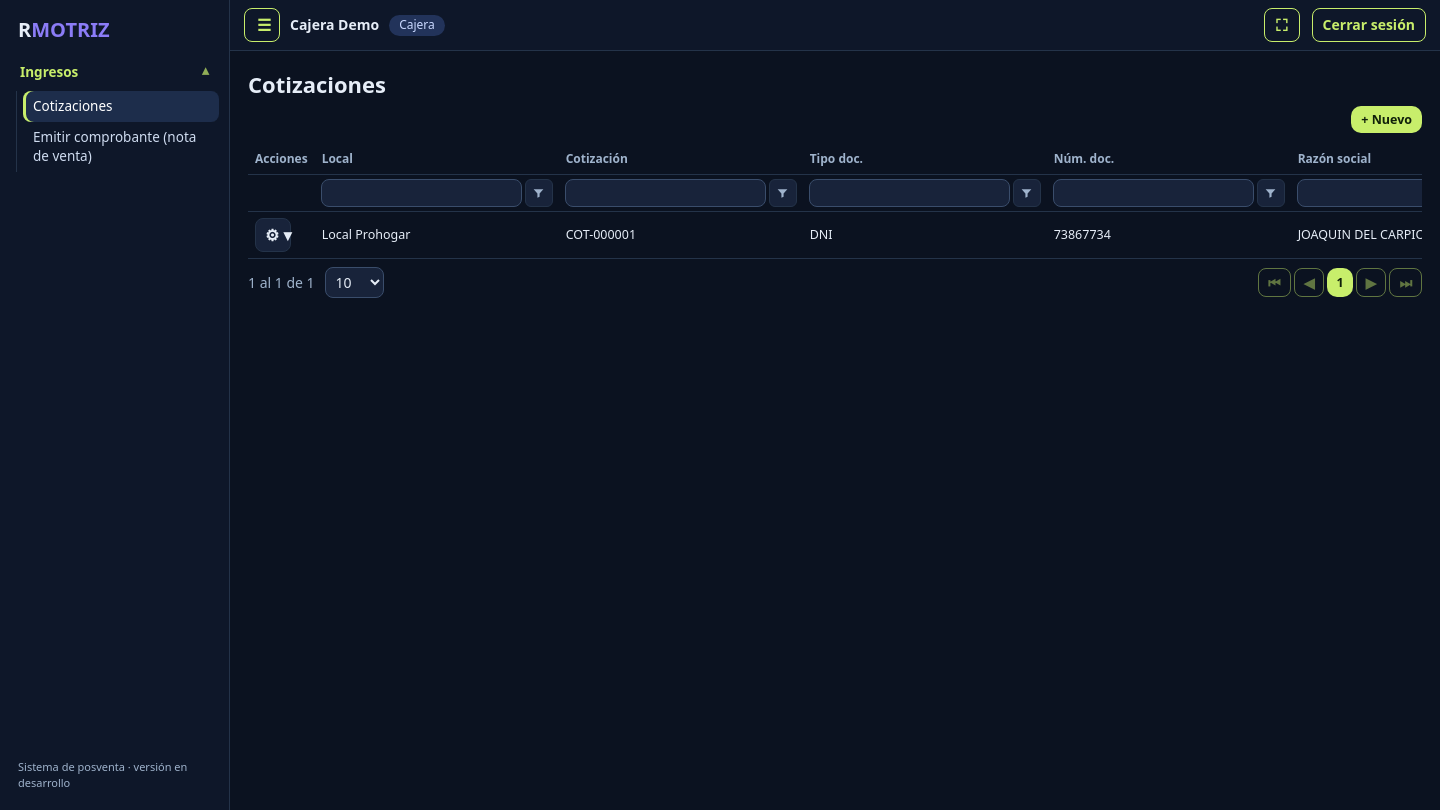
Scenario: Cotizaciones: un servicio con ficha muestra un ojo que despliega, justo bajo la línea, lo que incluye con sus tiempos y sin precios
Later steps or results of the test are not shown.
Click the button named "Acciones" at coordinates (273, 235), box [255,218,291,252]
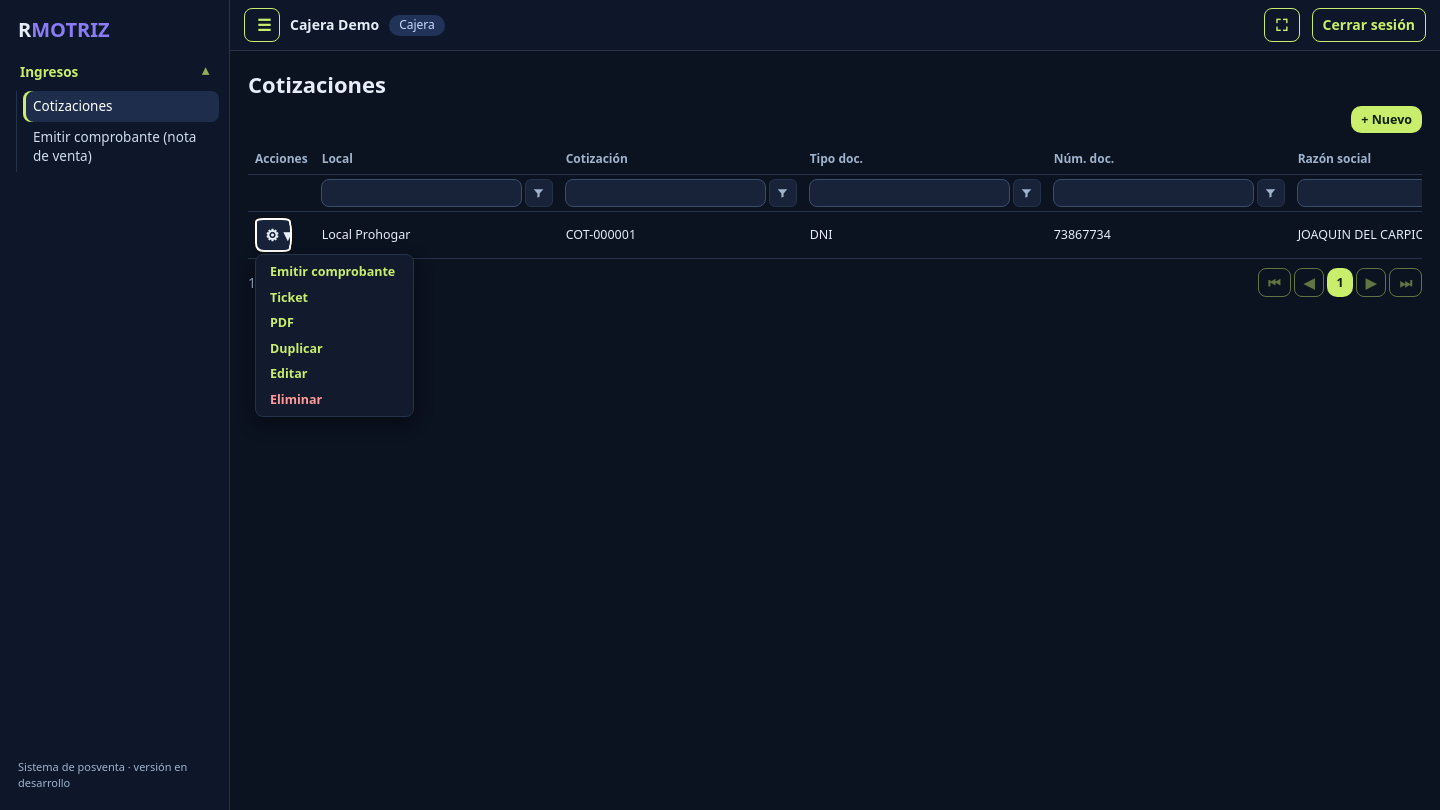
Click the button "Duplicar" at coordinates (333, 348), box [260,336,405,361]
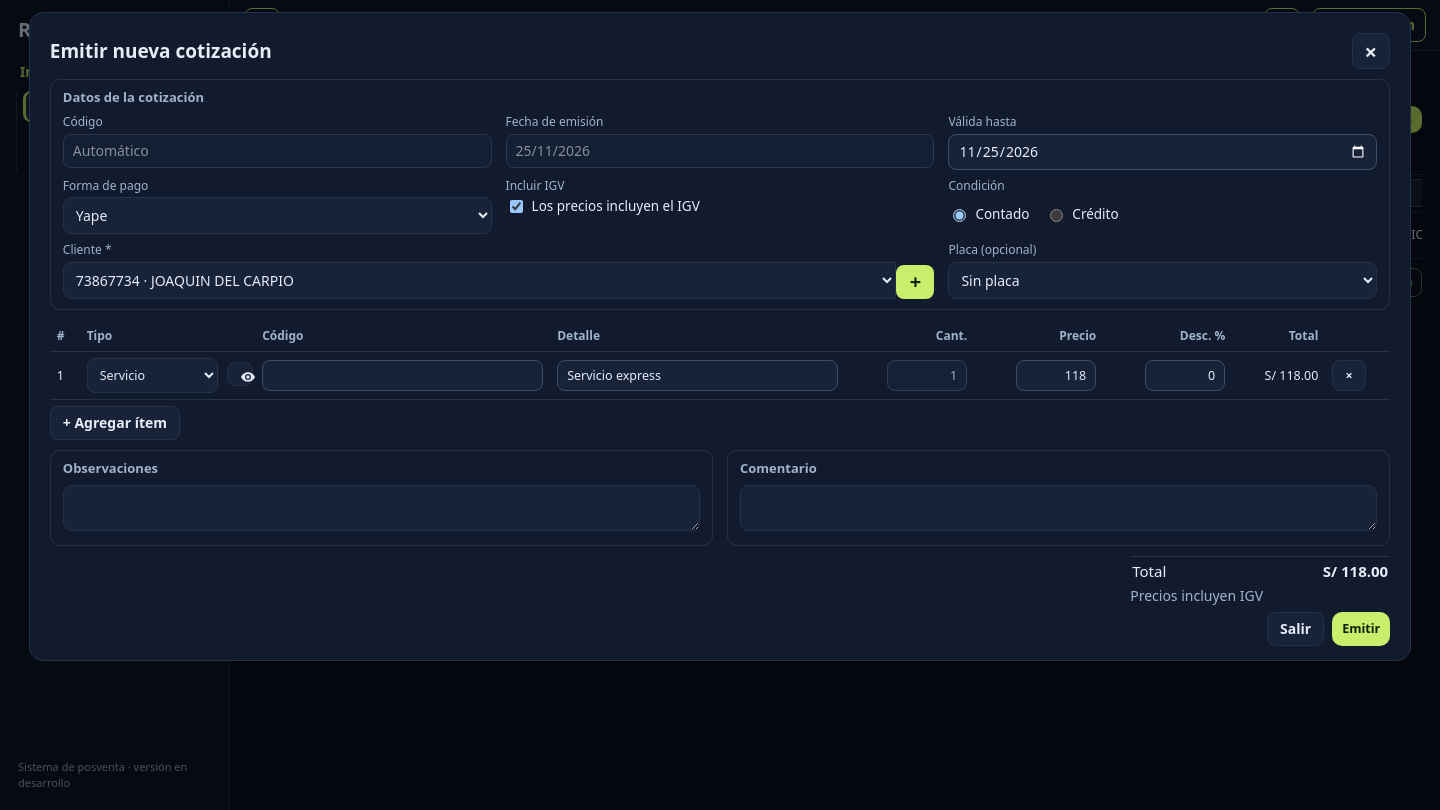
Click the button named "Ver ficha de Servicio express" at coordinates (240, 374), box [227,362,253,386]
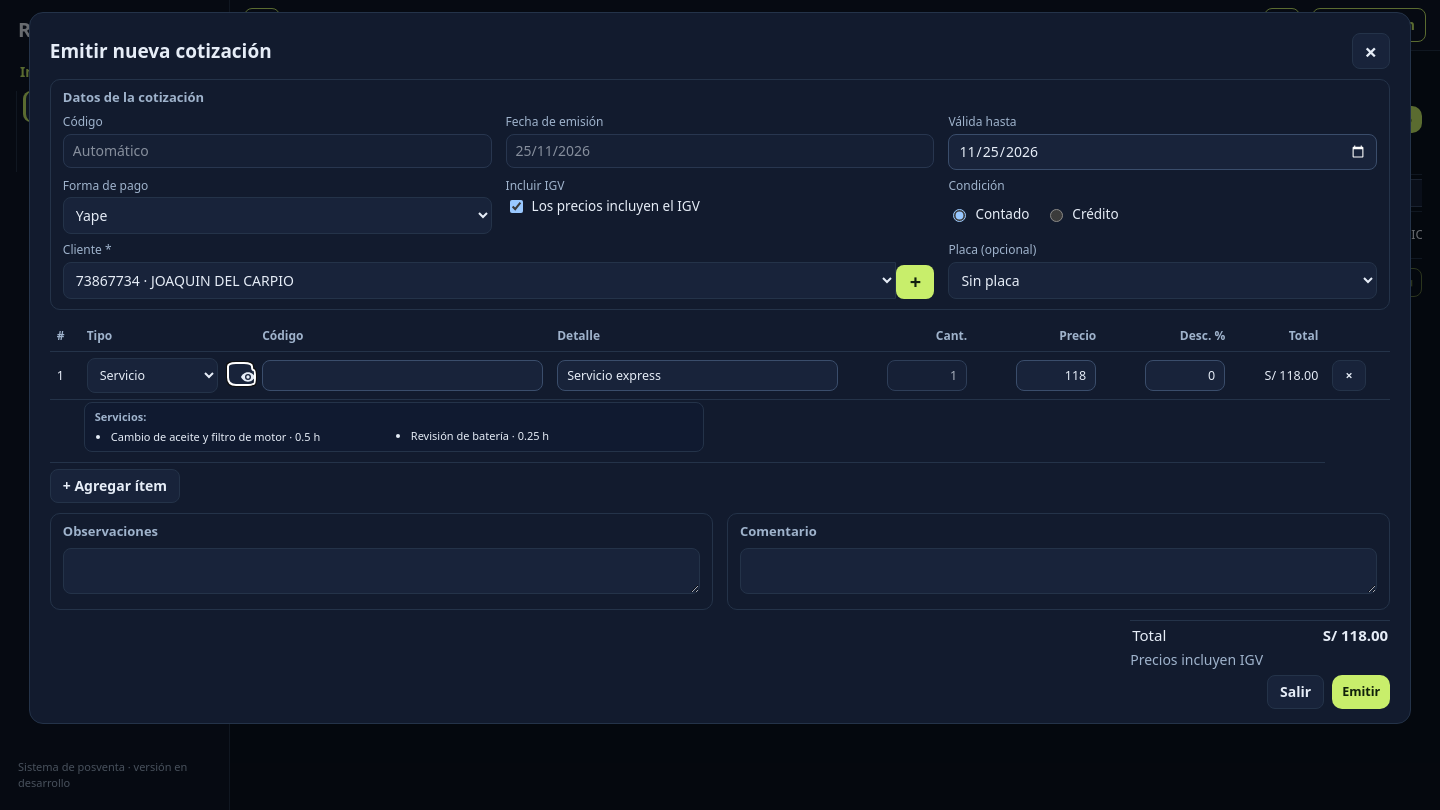
Now the element named "Ficha de Servicio express" shows "Cambio de aceite y filtro de motor · 0.5 h", box [84,402,704,452]
